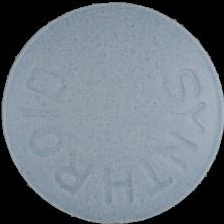0074-7069: (0, 0, 224, 224)
